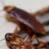cockroach: (4, 6, 45, 36), (4, 32, 46, 49)
